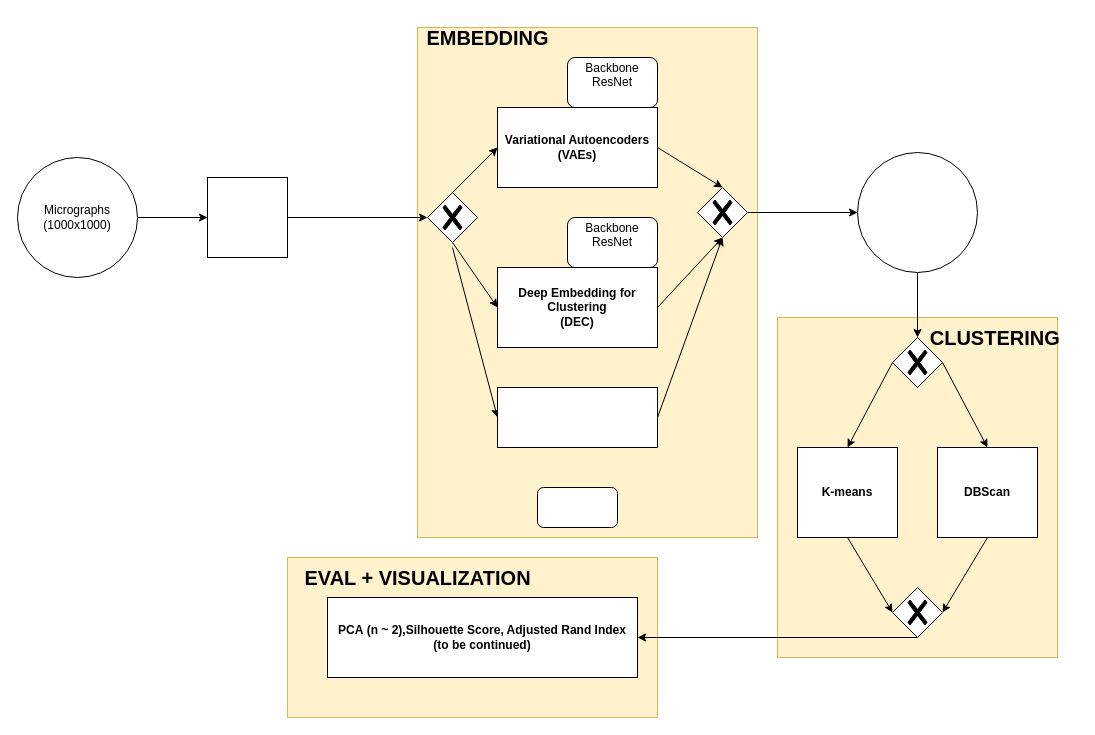
Image size: 1095x735. Some labels were removed from this diagram. Here are the shapes that lost their labels. From the top down, the box of each, then its label:
(206, 176, 288, 258): Transform
(856, 152, 978, 272): Embeddings (in L LatentDimension)
(496, 386, 658, 448): PCA? (n ~ 50)
(536, 486, 618, 528): Contrastive Loss (expensive)
